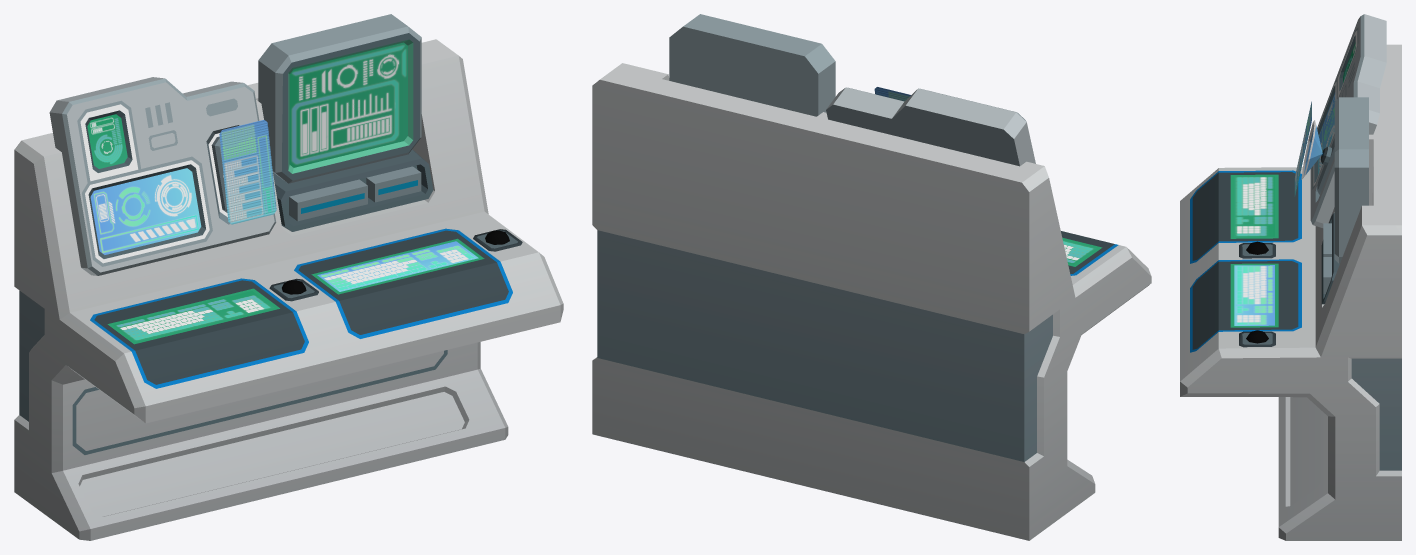
Rendered from Terminal_002.fbx.
3 views of the same model, side by side, from view 1: azimuth 30°, elevation 25°; view 2: azimuth 150°, elevation 25°; view 3: azimuth 270°, elevation 25° (orthographic). The views are drawn at different scales.
Visible parts, largest first — view 1: Terminal_002; view 2: Terminal_002; view 3: Terminal_002.
Part boxes in pixels (bbox=[...]): Terminal_002: bbox=[14, 14, 563, 540]; Terminal_002: bbox=[592, 14, 1151, 540]; Terminal_002: bbox=[1180, 14, 1401, 540].
Bounding box in the file's own units: 180 × 90 × 162.
